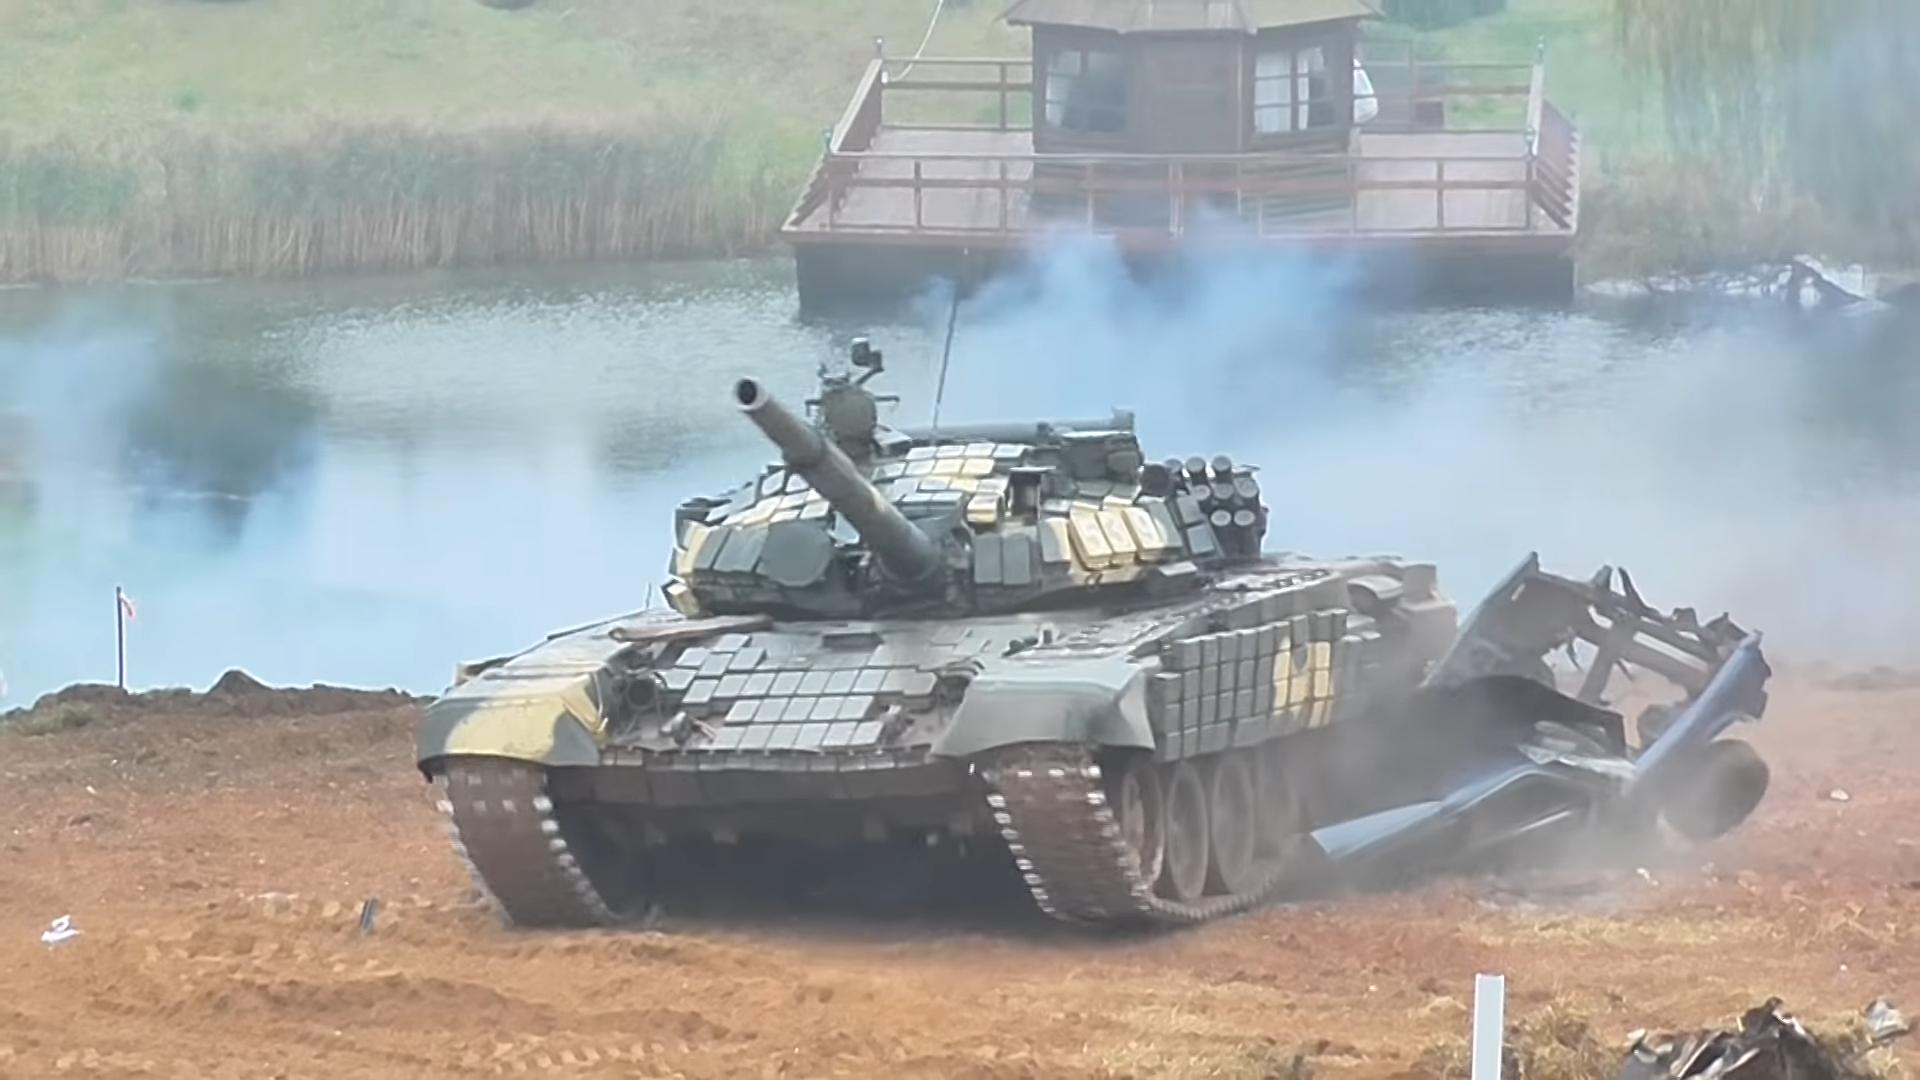tank: (417, 244, 1462, 938)
